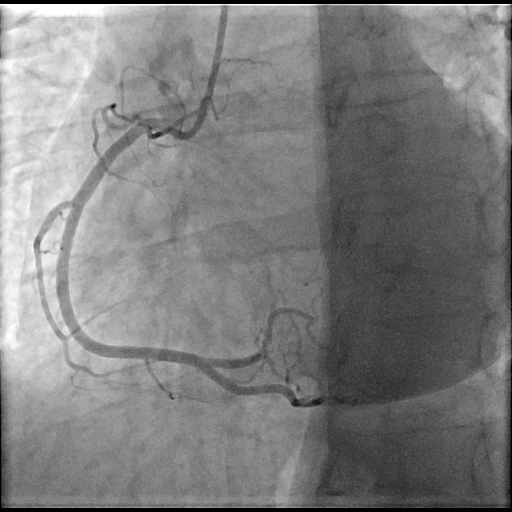RCA: (55, 123, 288, 401)
catherter: (165, 6, 226, 140)
